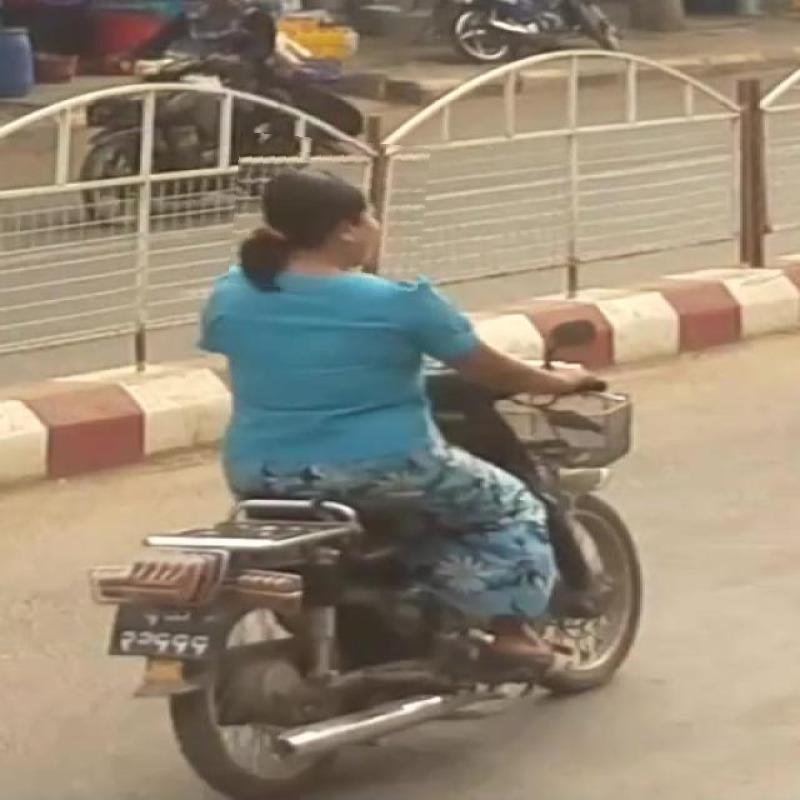nohelmet: (231, 137, 428, 296)
